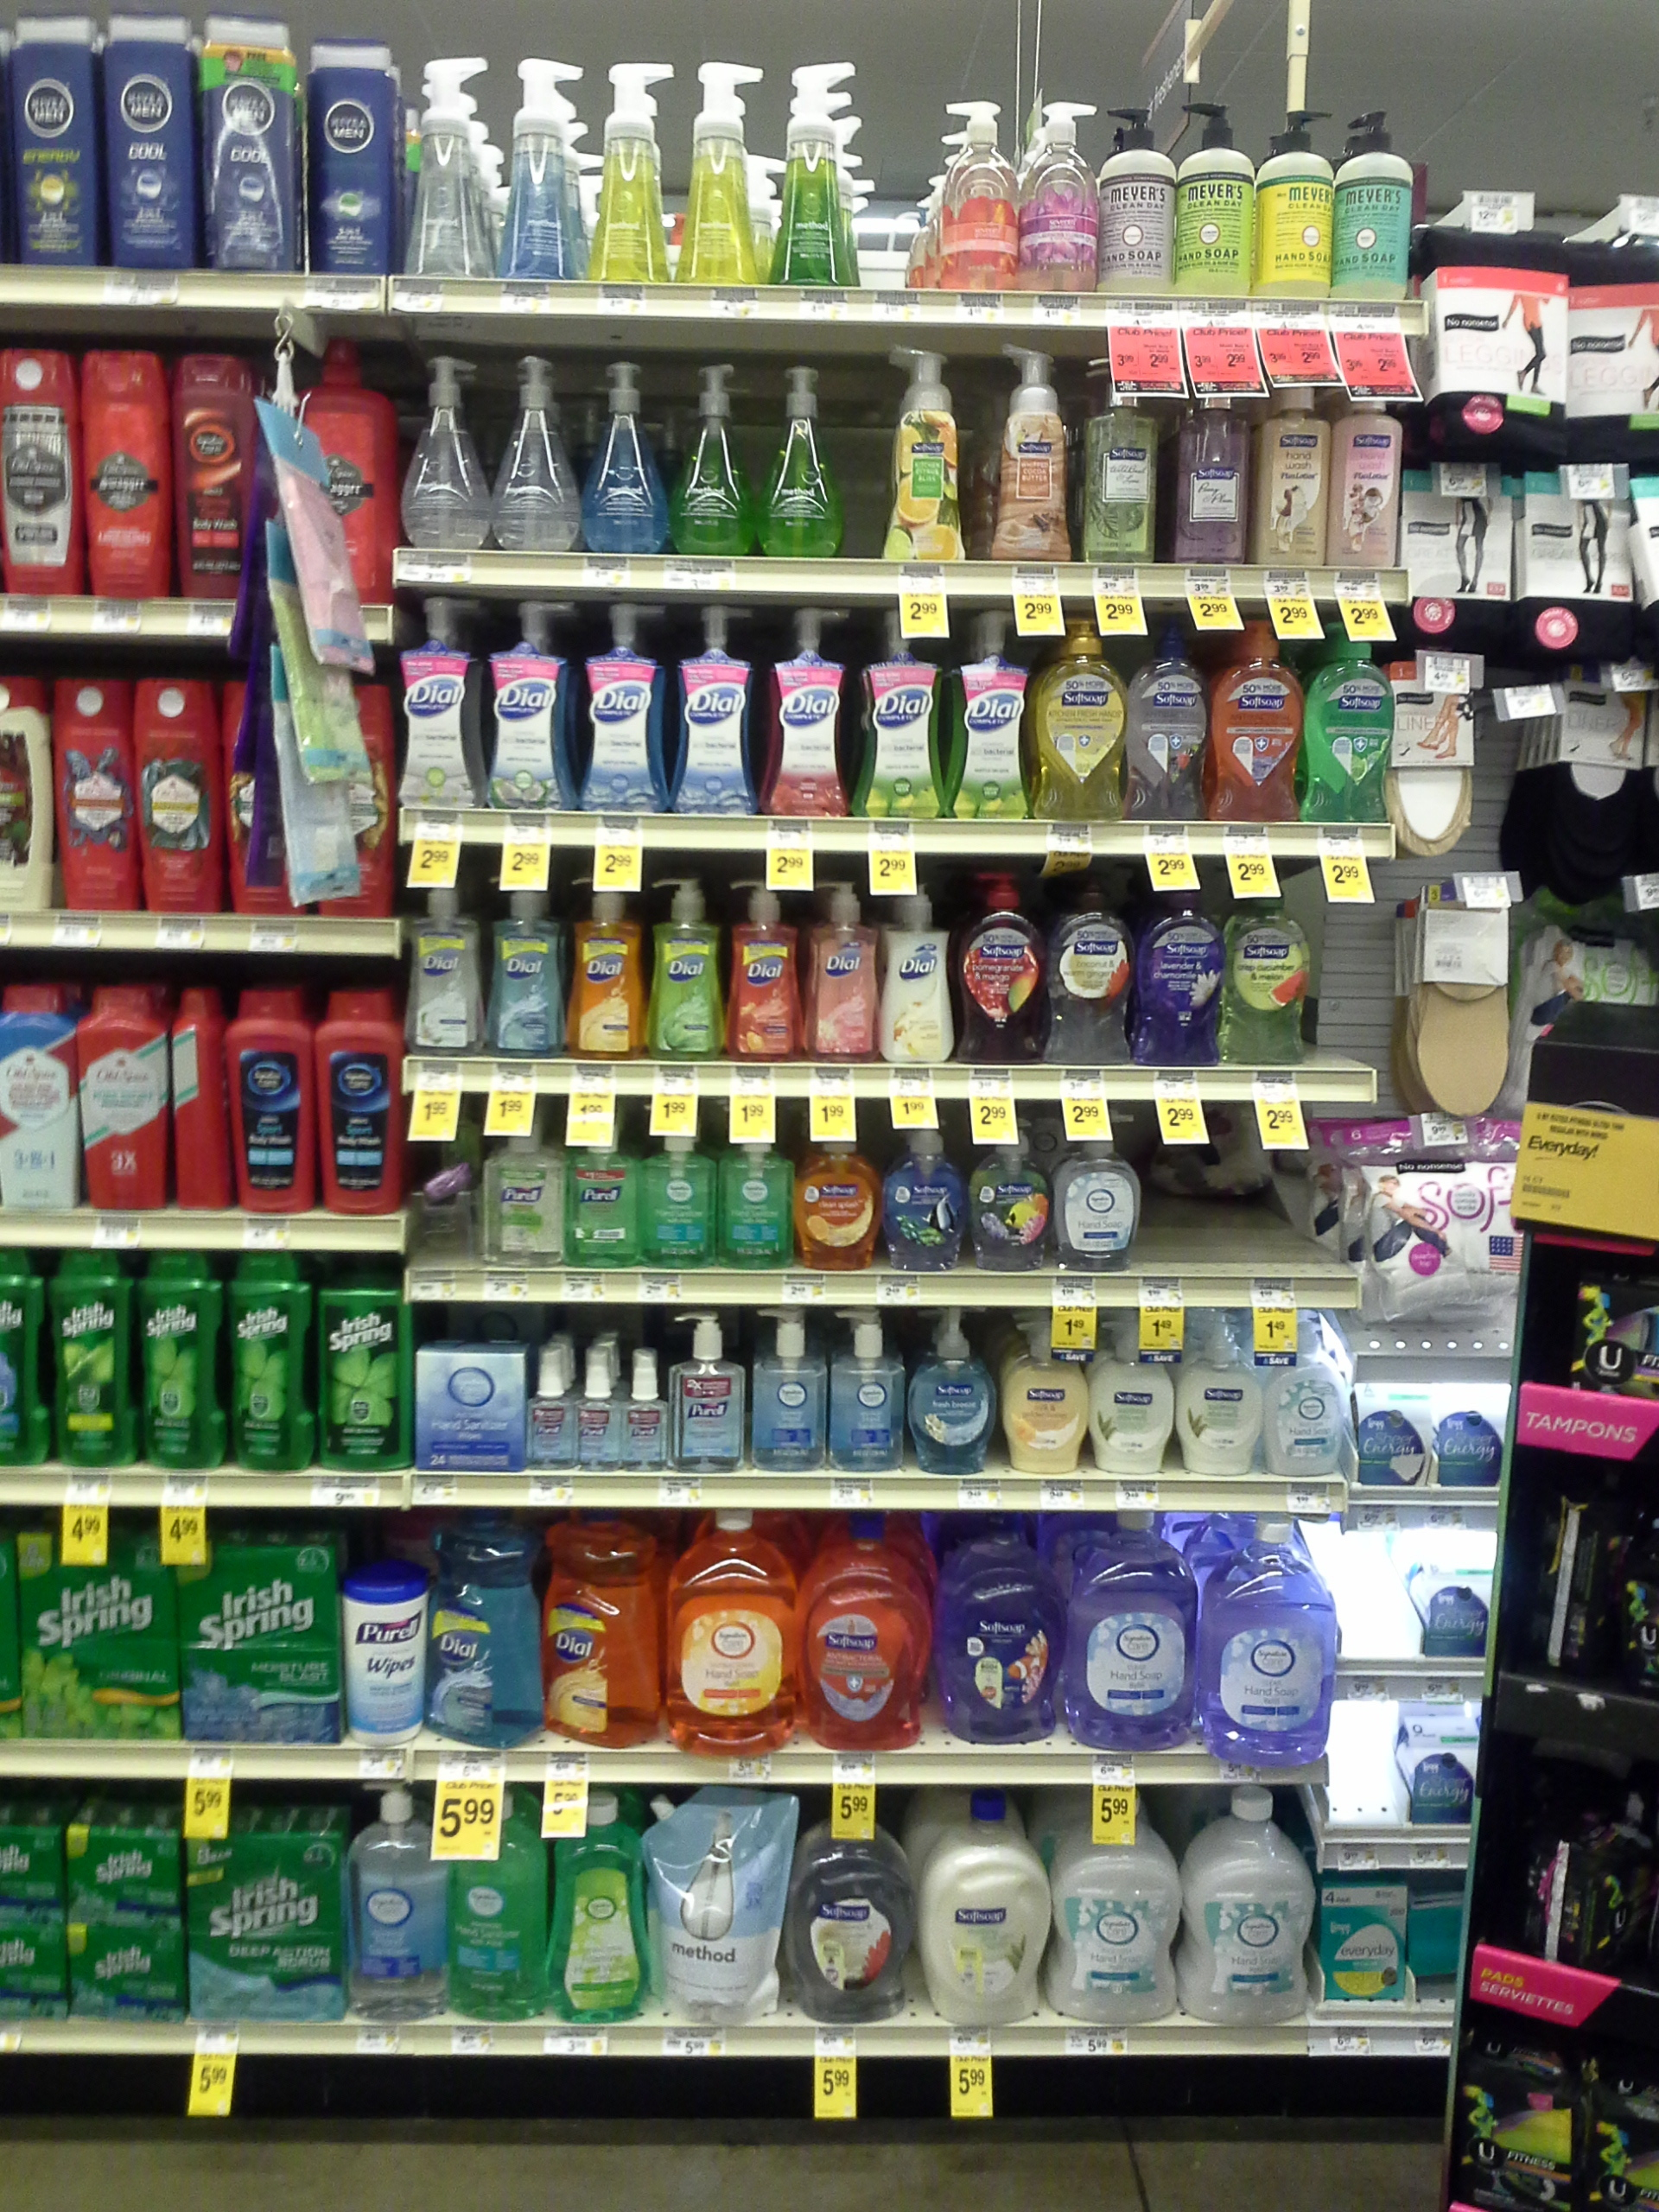Out-of-stock: (1328, 1700, 1403, 1834)
